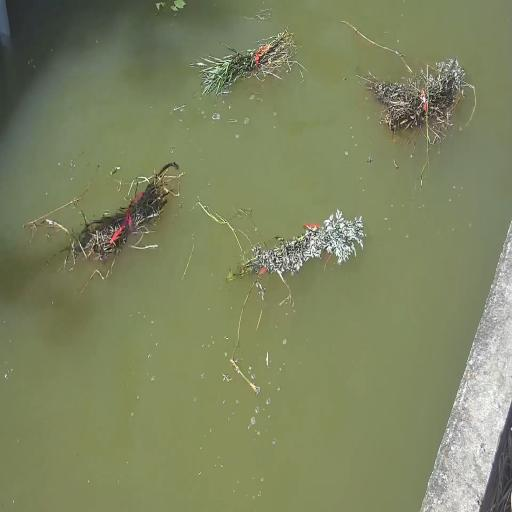twig: (231, 212, 375, 305), (358, 54, 481, 144), (65, 158, 175, 256), (204, 34, 281, 94), (151, 0, 193, 24)
